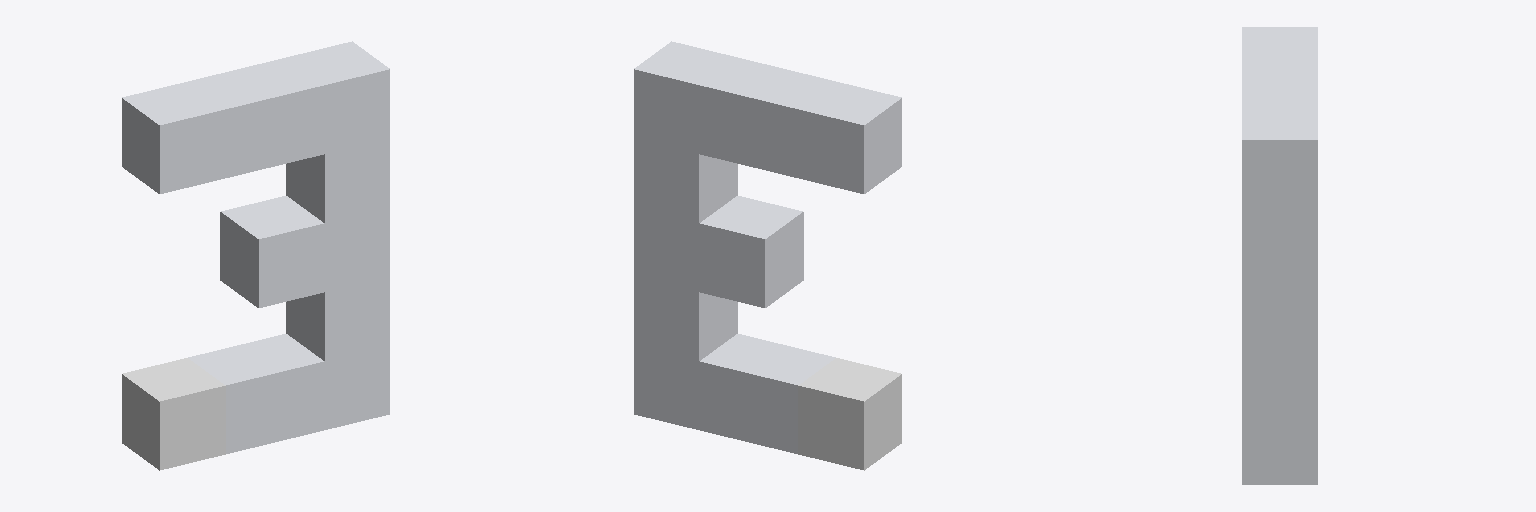
3 renders of one model, left to right at view 1: azimuth 30°, elevation 25°; view 2: azimuth 150°, elevation 25°; view 3: azimuth 270°, elevation 25°, orthographic.
Visible parts, largest first — view 1: Matrix_9; view 2: Matrix_9; view 3: Matrix_9.
Part boxes in pixels (x1,y1,x2,y2): Matrix_9: (122,41,389,470); Matrix_9: (634,41,901,470); Matrix_9: (1242,27,1317,484).
Bounding box in the file's own units: 7 × 10 × 2.
1 materials, 1 textured.